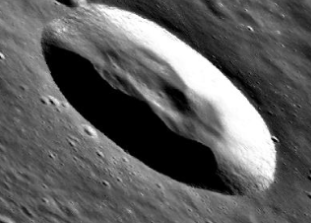crater: (2, 2, 306, 215)
